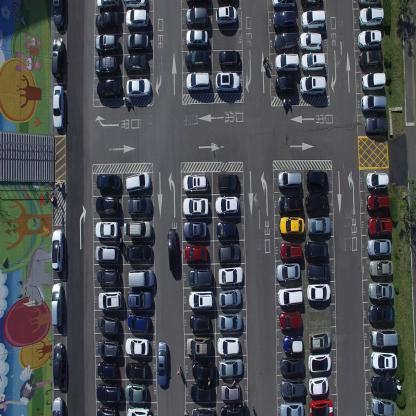car: (125, 171, 151, 194), (277, 215, 304, 237), (299, 74, 326, 96), (52, 341, 65, 386), (94, 54, 119, 77), (368, 304, 394, 326), (185, 334, 211, 356), (51, 228, 64, 272), (300, 8, 326, 30), (272, 8, 298, 30), (126, 77, 152, 99), (371, 374, 397, 396), (366, 216, 393, 237), (128, 267, 155, 288), (370, 328, 398, 348), (370, 350, 398, 370), (51, 35, 64, 78), (216, 240, 240, 263), (52, 84, 64, 130), (156, 340, 168, 386), (167, 226, 179, 272), (183, 172, 208, 194), (365, 193, 390, 215), (361, 71, 386, 93), (273, 30, 298, 52), (96, 78, 121, 100), (94, 32, 119, 54), (218, 264, 244, 285), (279, 356, 305, 377), (127, 288, 153, 309), (97, 290, 123, 311), (214, 71, 240, 92), (182, 197, 209, 217), (51, 281, 63, 326), (215, 194, 239, 216), (186, 71, 210, 93), (95, 9, 119, 31), (276, 170, 301, 191), (94, 195, 119, 216), (274, 52, 299, 73), (188, 288, 214, 308), (368, 281, 394, 301), (127, 242, 153, 262), (127, 196, 153, 216), (358, 6, 384, 26), (300, 52, 326, 72), (190, 382, 216, 402), (96, 382, 122, 402), (304, 192, 327, 214), (365, 170, 388, 192), (97, 314, 120, 336), (306, 282, 330, 303), (364, 115, 388, 136), (184, 7, 208, 28), (125, 9, 149, 30), (124, 382, 148, 403), (182, 220, 207, 240), (187, 267, 212, 287), (368, 258, 393, 278), (128, 218, 153, 238), (191, 360, 216, 380), (96, 172, 121, 192), (94, 243, 119, 263), (366, 238, 392, 257), (360, 94, 386, 113), (277, 287, 303, 306), (371, 396, 397, 415), (217, 172, 239, 194), (306, 170, 328, 192), (215, 4, 237, 26), (185, 242, 208, 263), (185, 27, 208, 48), (306, 262, 330, 282), (276, 261, 300, 281), (218, 310, 242, 330), (218, 286, 242, 306), (125, 336, 149, 356), (216, 335, 240, 355), (96, 338, 120, 358), (359, 49, 383, 69), (185, 48, 209, 68), (123, 54, 147, 74), (126, 32, 150, 52), (278, 310, 302, 330), (280, 377, 304, 397), (306, 217, 331, 236), (277, 195, 302, 214), (308, 374, 329, 396), (127, 312, 150, 332), (299, 31, 322, 51), (274, 74, 297, 94), (219, 49, 242, 69), (308, 352, 332, 371), (278, 242, 302, 261), (303, 240, 327, 259), (125, 361, 149, 380), (219, 358, 243, 377), (357, 28, 381, 47), (94, 221, 119, 239), (309, 397, 334, 415), (96, 359, 118, 379), (309, 330, 332, 349), (97, 268, 121, 286), (216, 219, 236, 240), (283, 334, 304, 354), (279, 400, 304, 416), (52, 0, 65, 30), (190, 312, 210, 330), (221, 382, 240, 400), (220, 404, 246, 415), (96, 0, 120, 11), (126, 406, 152, 416), (95, 404, 118, 415), (122, 0, 147, 10), (191, 405, 216, 415), (51, 396, 64, 415), (272, 0, 296, 8), (358, 0, 381, 8), (301, 0, 323, 8), (186, 0, 208, 6), (216, 0, 237, 5)
